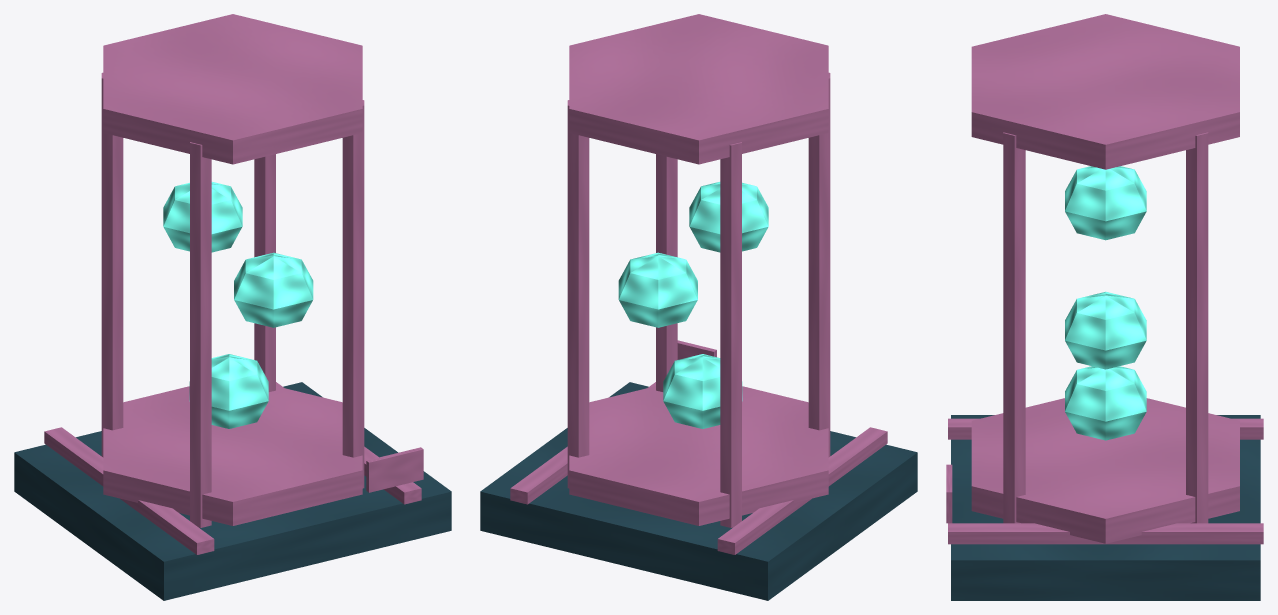
The model's file is atlas100-s070-a01.lod1.glb.
3 renders of one model, left to right at view 1: azimuth 30°, elevation 25°; view 2: azimuth 150°, elevation 25°; view 3: azimuth 270°, elevation 25°, orthographic. The views are drawn at different scales.
Parts seen in each view (by area): view 1: atlas100-s070-a01:part-004, atlas100-s070-a01:part-000, atlas100-s070-a01:part-003, atlas100-s070-a01:part-007, atlas100-s070-a01:part-005, atlas100-s070-a01:part-009, atlas100-s070-a01:part-014, atlas100-s070-a01:part-013, atlas100-s070-a01:part-001, atlas100-s070-a01:part-015, atlas100-s070-a01:part-011, atlas100-s070-a01:part-016 (+1 smaller); view 2: atlas100-s070-a01:part-004, atlas100-s070-a01:part-000, atlas100-s070-a01:part-003, atlas100-s070-a01:part-009, atlas100-s070-a01:part-011, atlas100-s070-a01:part-007, atlas100-s070-a01:part-014, atlas100-s070-a01:part-013, atlas100-s070-a01:part-001, atlas100-s070-a01:part-015, atlas100-s070-a01:part-005, atlas100-s070-a01:part-002; view 3: atlas100-s070-a01:part-004, atlas100-s070-a01:part-003, atlas100-s070-a01:part-000, atlas100-s070-a01:part-005, atlas100-s070-a01:part-011, atlas100-s070-a01:part-002, atlas100-s070-a01:part-014, atlas100-s070-a01:part-013, atlas100-s070-a01:part-015, atlas100-s070-a01:part-001.
Part boxes in pixels (left/top/right/bottom): atlas100-s070-a01:part-004: left=103, top=14, right=362, bottom=164; atlas100-s070-a01:part-000: left=14, top=382, right=451, bottom=600; atlas100-s070-a01:part-003: left=103, top=386, right=362, bottom=525; atlas100-s070-a01:part-007: left=190, top=142, right=211, bottom=527; atlas100-s070-a01:part-005: left=342, top=100, right=364, bottom=488; atlas100-s070-a01:part-009: left=101, top=72, right=123, bottom=457; atlas100-s070-a01:part-014: left=234, top=252, right=313, bottom=327; atlas100-s070-a01:part-013: left=189, top=354, right=268, bottom=428; atlas100-s070-a01:part-001: left=44, top=427, right=214, bottom=554; atlas100-s070-a01:part-015: left=163, top=182, right=242, bottom=252; atlas100-s070-a01:part-011: left=254, top=154, right=275, bottom=391; atlas100-s070-a01:part-016: left=366, top=447, right=423, bottom=492; atlas100-s070-a01:part-004: left=569, top=14, right=828, bottom=164; atlas100-s070-a01:part-000: left=480, top=382, right=917, bottom=600; atlas100-s070-a01:part-003: left=569, top=386, right=828, bottom=525; atlas100-s070-a01:part-009: left=720, top=142, right=741, bottom=527; atlas100-s070-a01:part-011: left=567, top=100, right=589, bottom=488; atlas100-s070-a01:part-007: left=808, top=72, right=830, bottom=457; atlas100-s070-a01:part-014: left=618, top=252, right=697, bottom=327; atlas100-s070-a01:part-013: left=663, top=354, right=742, bottom=428; atlas100-s070-a01:part-001: left=717, top=427, right=887, bottom=554; atlas100-s070-a01:part-015: left=689, top=182, right=768, bottom=252; atlas100-s070-a01:part-005: left=656, top=154, right=677, bottom=391; atlas100-s070-a01:part-002: left=510, top=382, right=655, bottom=504; atlas100-s070-a01:part-004: left=971, top=14, right=1239, bottom=169; atlas100-s070-a01:part-003: left=971, top=398, right=1239, bottom=543; atlas100-s070-a01:part-000: left=951, top=415, right=1260, bottom=600; atlas100-s070-a01:part-005: left=1003, top=132, right=1025, bottom=523; atlas100-s070-a01:part-011: left=1186, top=132, right=1208, bottom=523; atlas100-s070-a01:part-002: left=948, top=523, right=1263, bottom=544; atlas100-s070-a01:part-014: left=1065, top=291, right=1146, bottom=369; atlas100-s070-a01:part-013: left=1065, top=366, right=1146, bottom=440; atlas100-s070-a01:part-015: left=1065, top=166, right=1146, bottom=240; atlas100-s070-a01:part-001: left=948, top=418, right=1263, bottom=439.
Bounding box in the file's own units: 2 × 2.88 × 1.85.
Materials: 3 (3 with a texture image).
